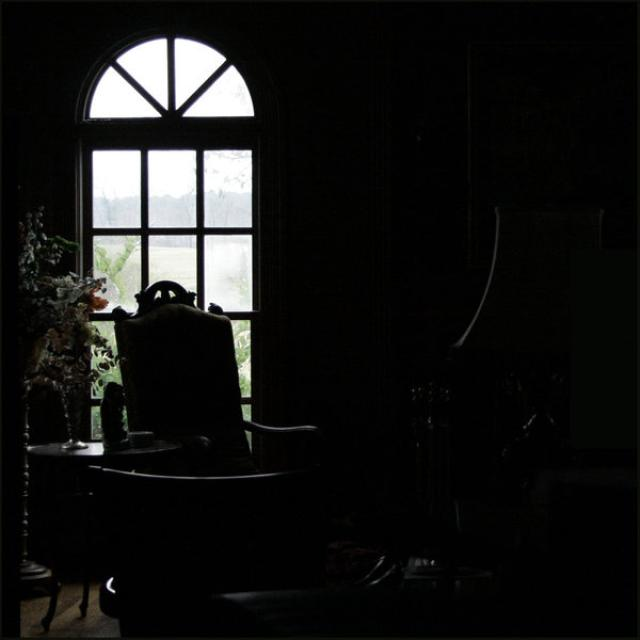Table: (16, 409, 192, 610)
chair: (379, 301, 598, 635), (105, 258, 299, 572)
